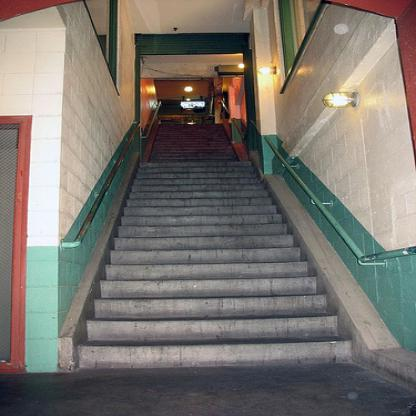stairs: (123, 227, 299, 368)
